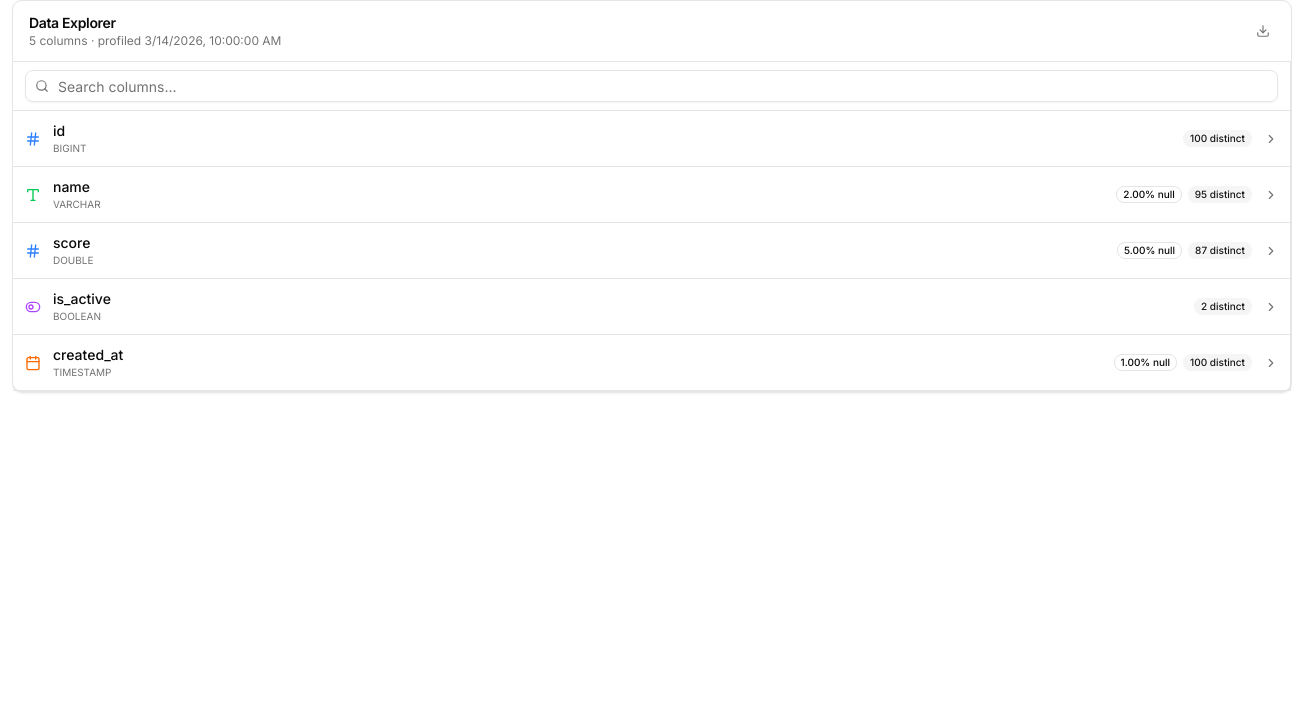
Test case: DataExplorer › shows distribution visualization for numeric columns
The width and height of the screenshot is (1304, 720).
// Click "id" column (BIGINT)
What coordinates should you click on to do the following:
click the button with test id "column-row" showing "id BIGINT 100 distinct"
I would click on:
 (70, 148)
Its box is [13, 111, 1290, 167].
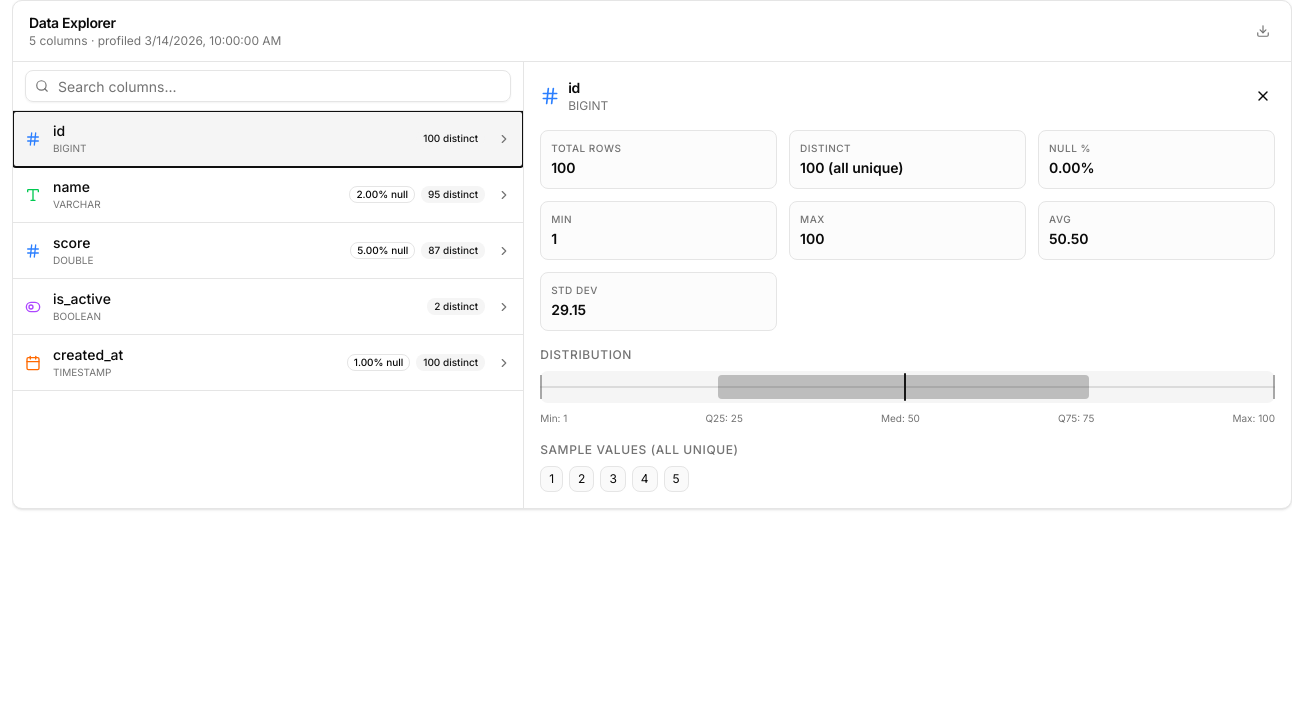
Now the element with test id "distribution-histogram" is shown, box [540, 347, 1275, 426]
Now the text "Min: 1" is shown, box [540, 411, 567, 426]
Now the text "Max: 100" is shown, box [1232, 411, 1275, 426]
